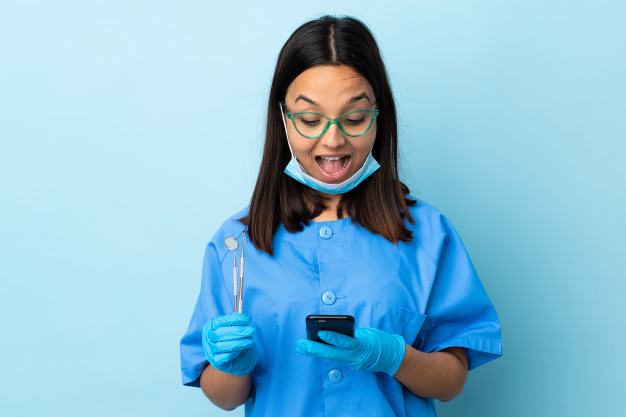mask_weared_incorrect: (277, 75, 385, 197)
